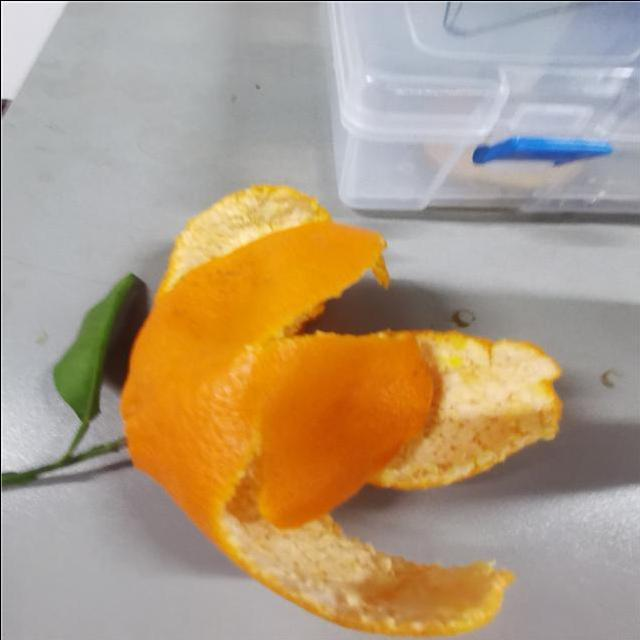orange peel: (120, 186, 564, 634)
